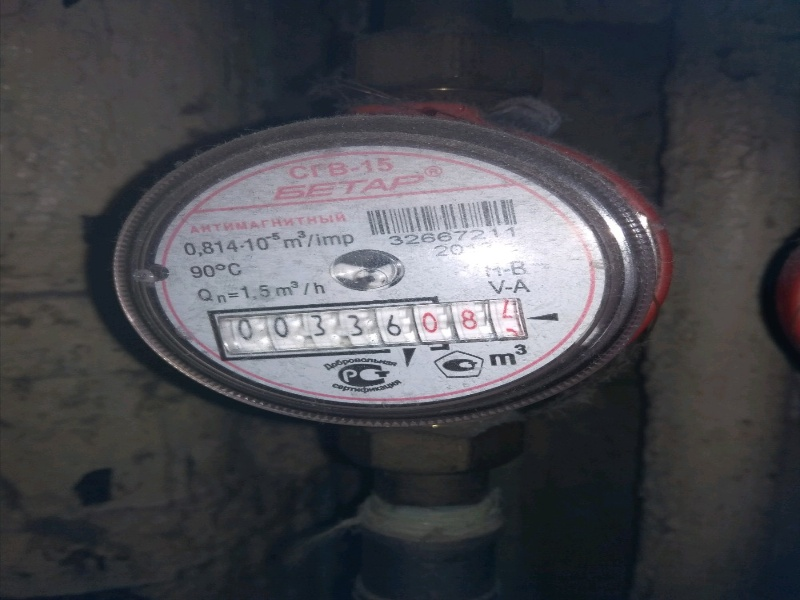meter: (210, 309, 529, 343)
